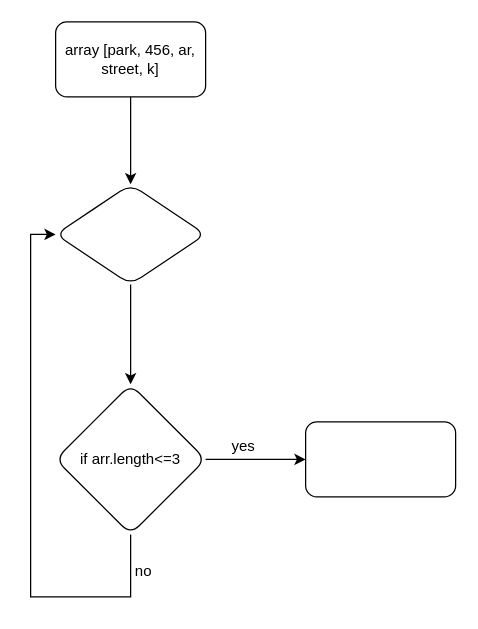
Some shapes in this 478 by 629 pixel diagram are drawn without their labels. Each missing label, with the centre of its shape:
"console.writeline (arr)" goes at pixel 380 459.
"foreach (array)" goes at pixel 130 233.
